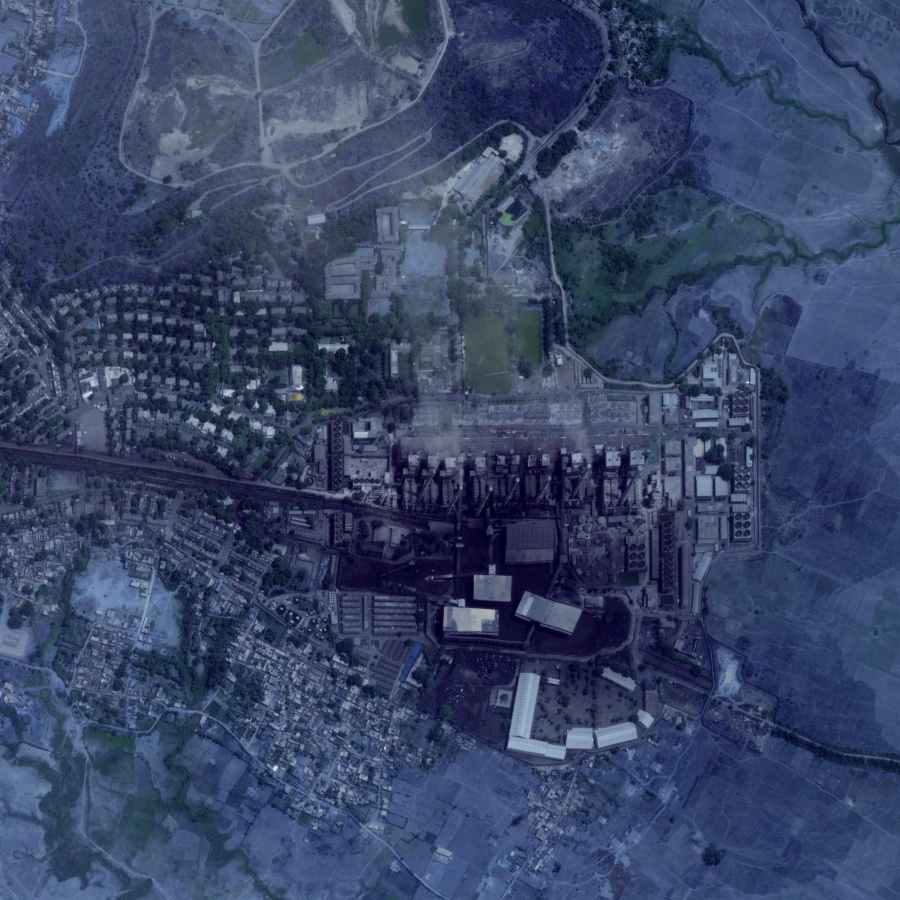PowerPlant: (338, 315, 761, 665)
